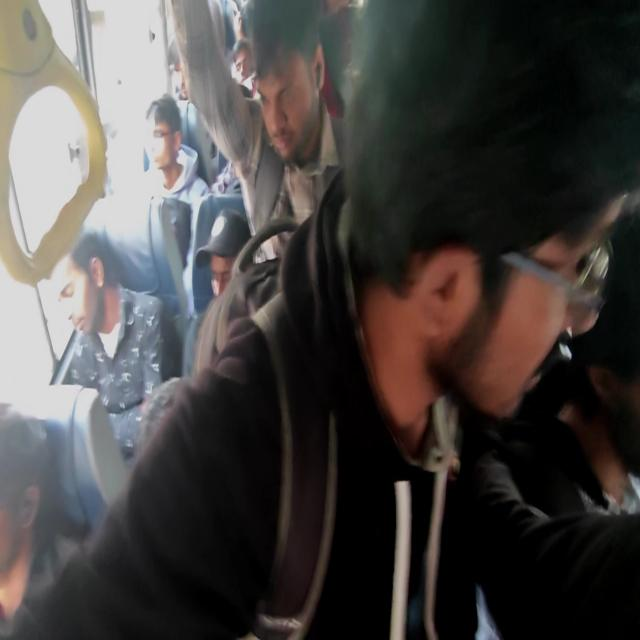person: (360, 25, 615, 378), (557, 222, 640, 484), (244, 0, 332, 166), (57, 233, 132, 343), (207, 202, 264, 344), (0, 428, 39, 580), (147, 99, 183, 192), (163, 38, 206, 107), (233, 41, 265, 93)
